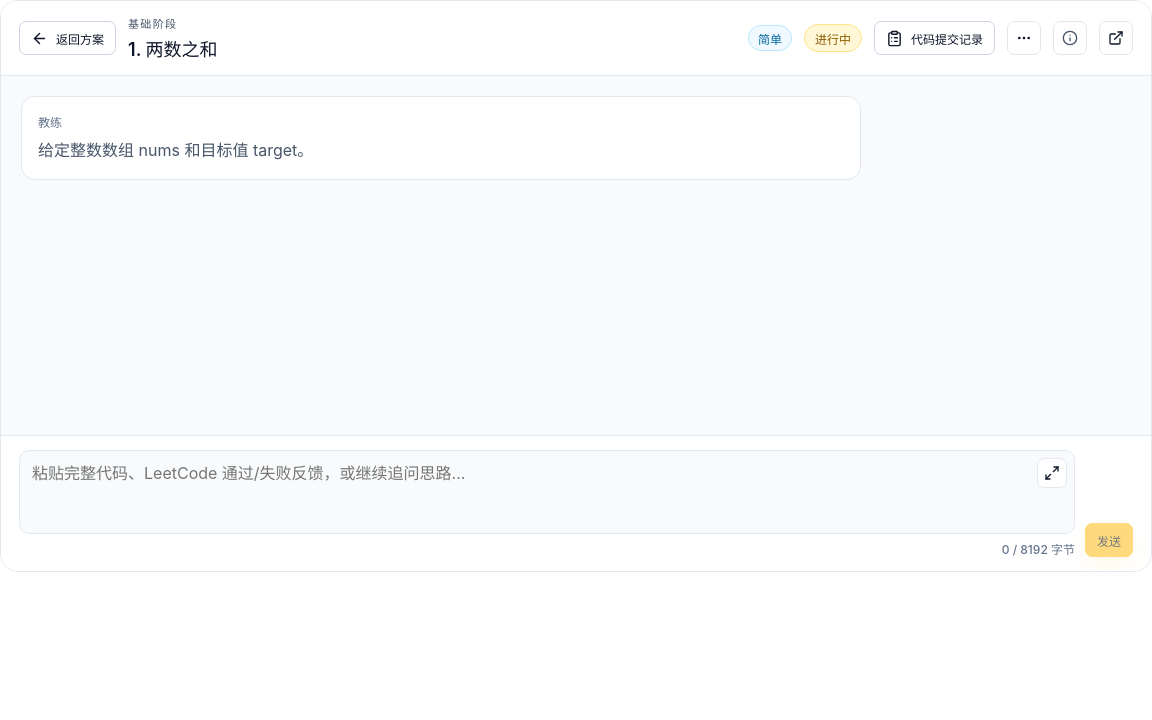
Scenario: PracticeChatWorkbench run subscription contracts › shows capacity feedback when starting the run is rejected
Type "帮我分析一下这个解法。" into the text box named "输入你的思路、问题、代码或 LeetCode 反馈".
click(547, 492); type("帮我分析一下这个解法。")  # box x1=19 y1=450 x2=1075 y2=534
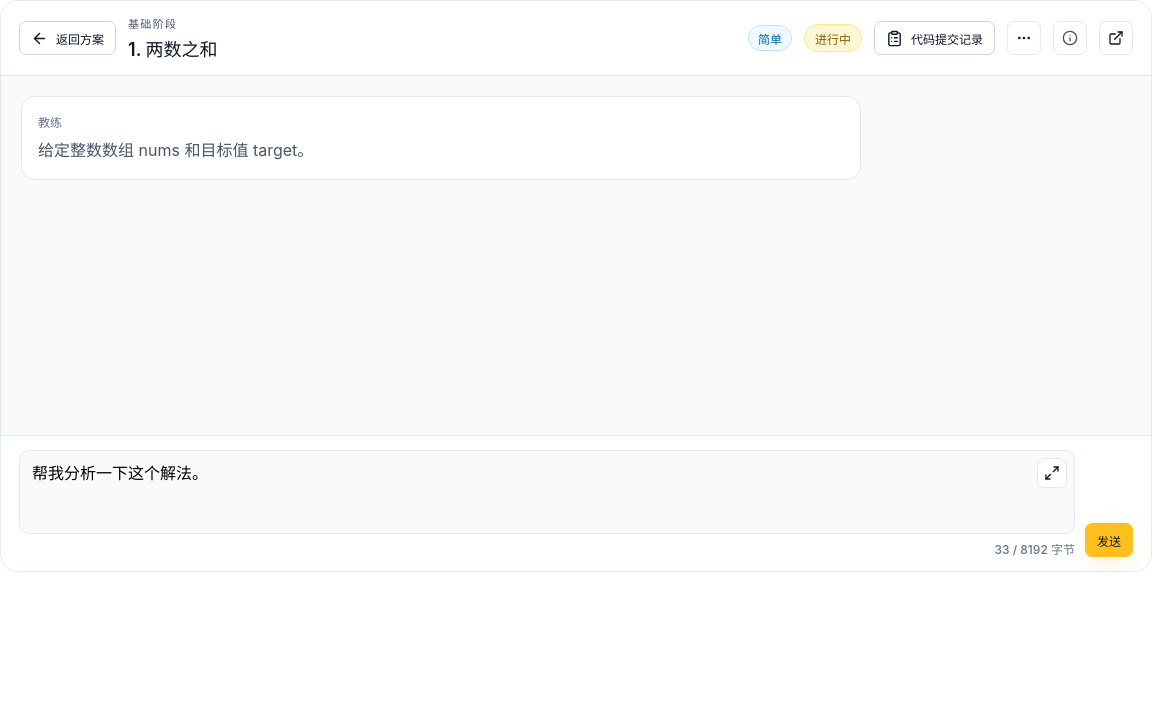
Click the button "发送".
click(1109, 540)  # box x1=1085 y1=523 x2=1133 y2=557
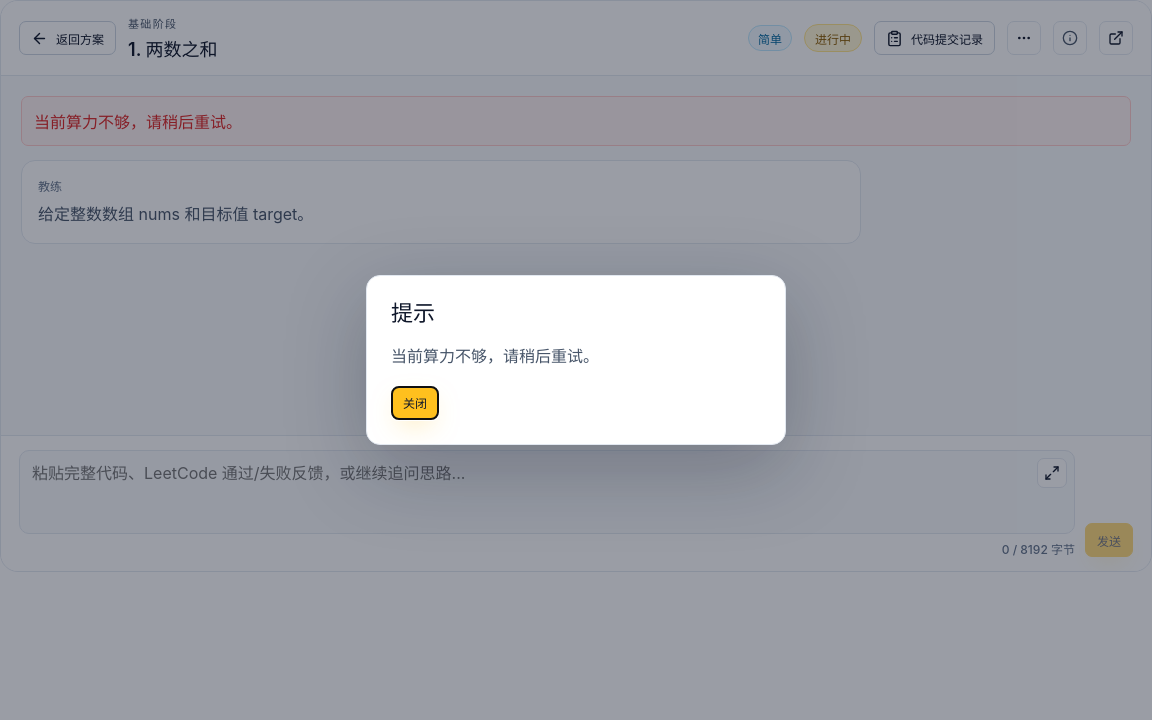
Expected: the text "当前算力不够，请稍后重试。" is shown, x1=391 y1=346 x2=599 y2=366
